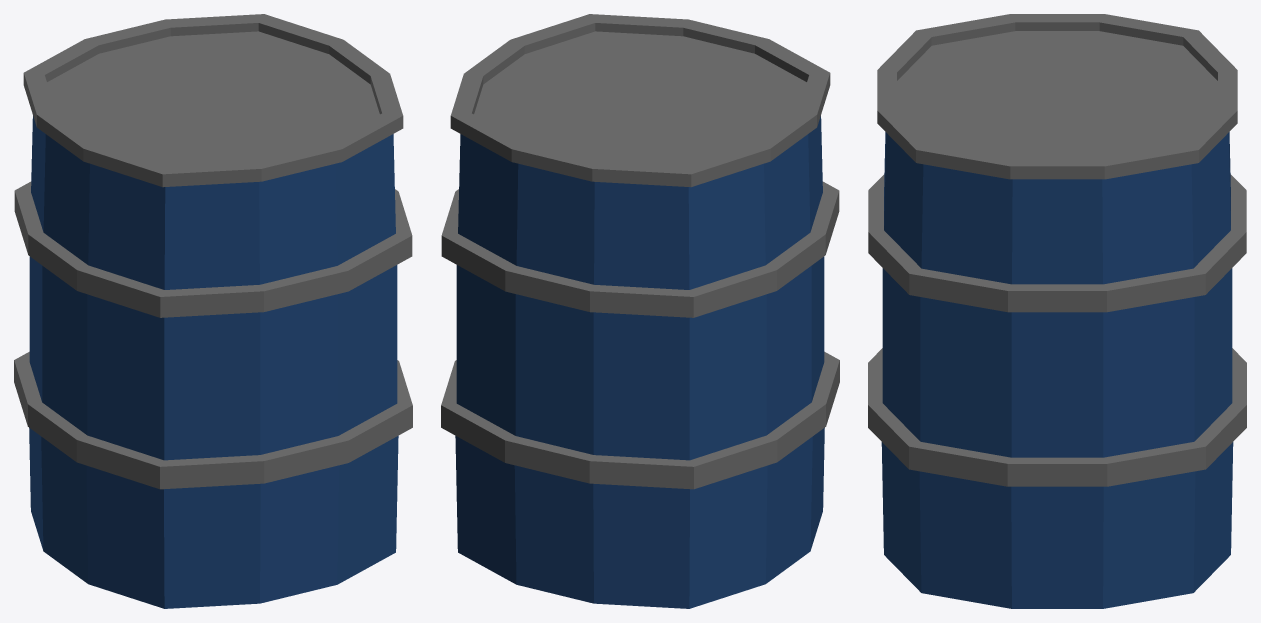
The picture shows the model from 3 angles, left to right: view 1: azimuth 30°, elevation 25°; view 2: azimuth 150°, elevation 25°; view 3: azimuth 270°, elevation 25°; orthographic projection.
Parts seen in each view (by area): view 1: G-18; view 2: G-18; view 3: G-18.
Boxes of the visible parts, x1,y1,x2,y2 form: G-18: [14, 14, 412, 608]; G-18: [441, 14, 839, 608]; G-18: [868, 14, 1246, 608].
Bounding box in the file's own units: 145 × 188 × 145.
